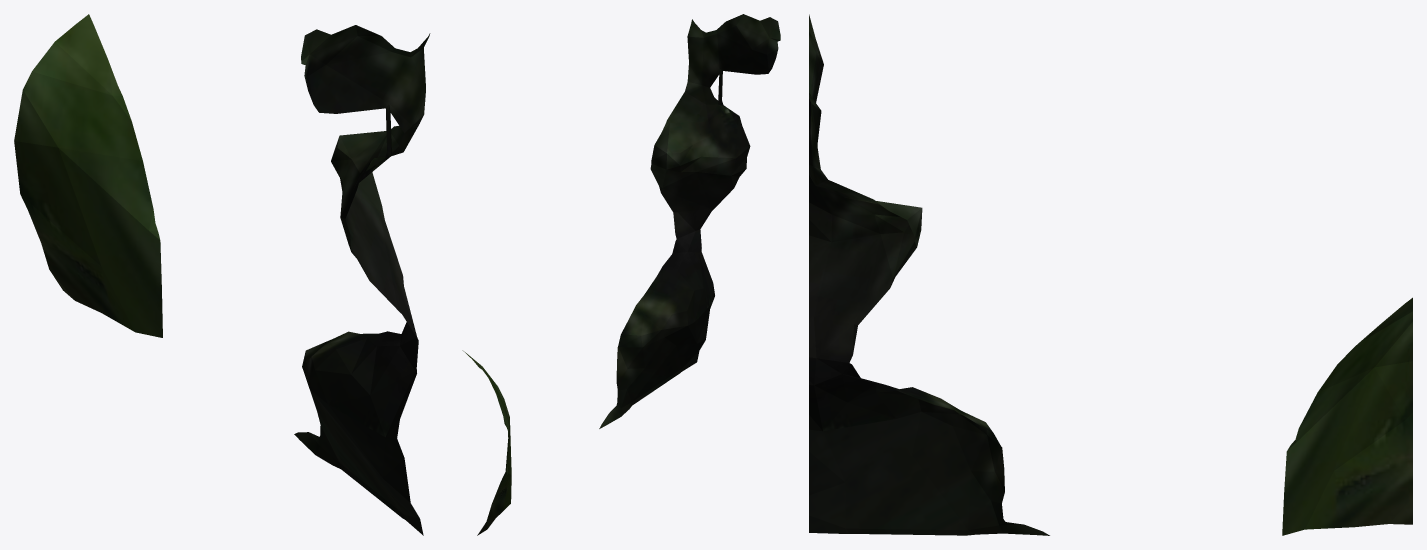
3 renders of one model, left to right at view 1: azimuth 30°, elevation 25°; view 2: azimuth 150°, elevation 25°; view 3: azimuth 270°, elevation 25°, orthographic. The views are drawn at different scales.
Bounding box in the file's own units: 0.1836 × 0.7201 × 0.8373.
1 material, 1 textured.
